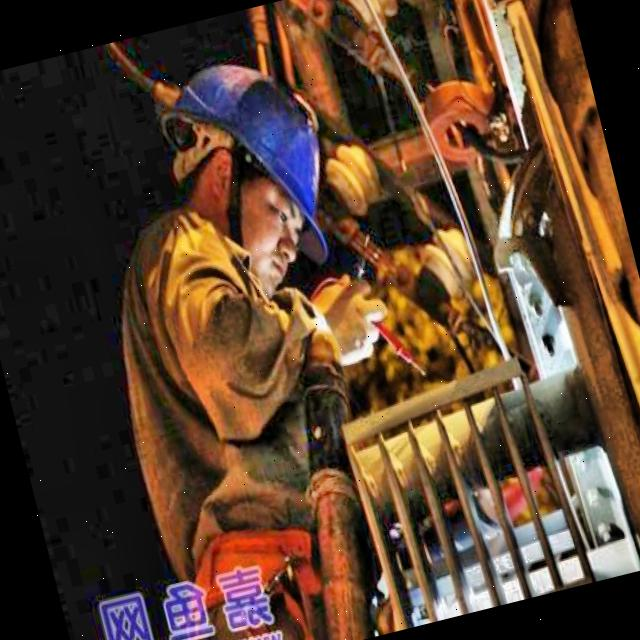helmet: (162, 38, 366, 306)
